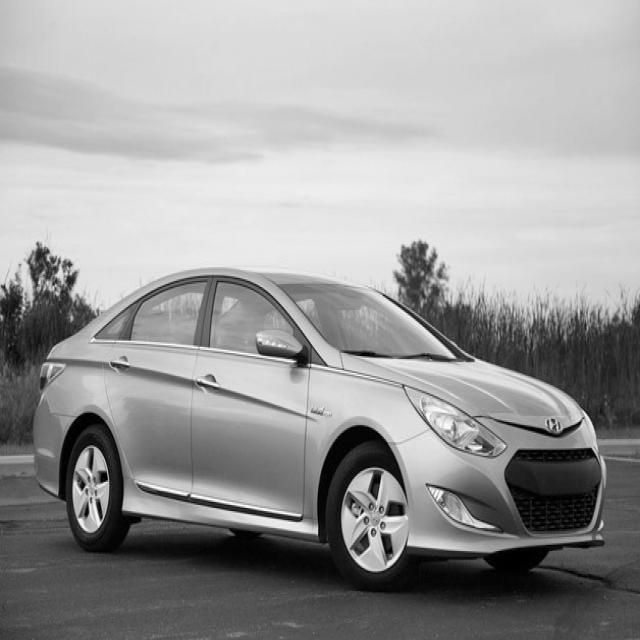car: (31, 265, 606, 591)
